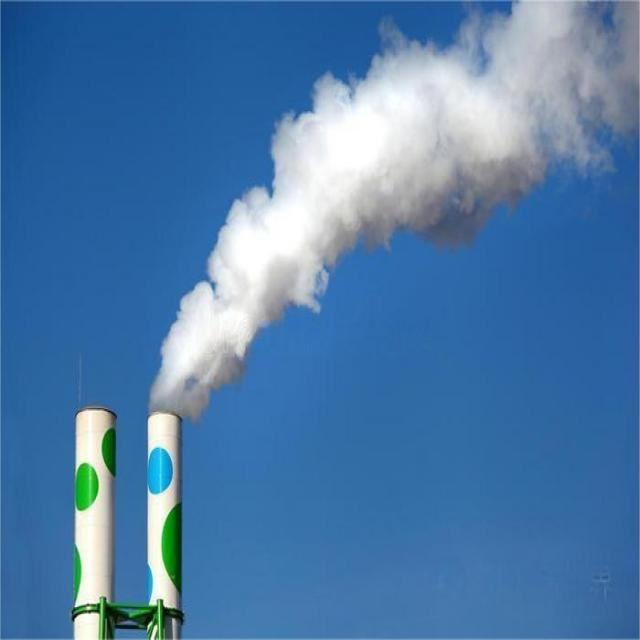Smoke: (147, 0, 640, 419)
